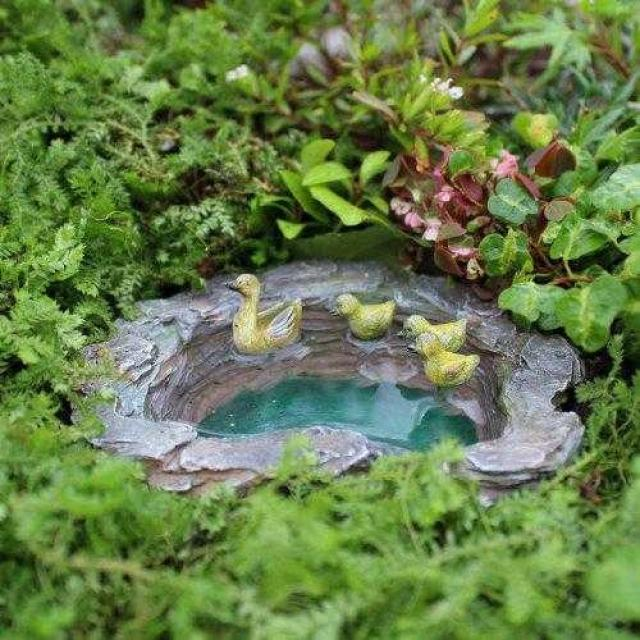Ponds: (72, 264, 601, 501)
